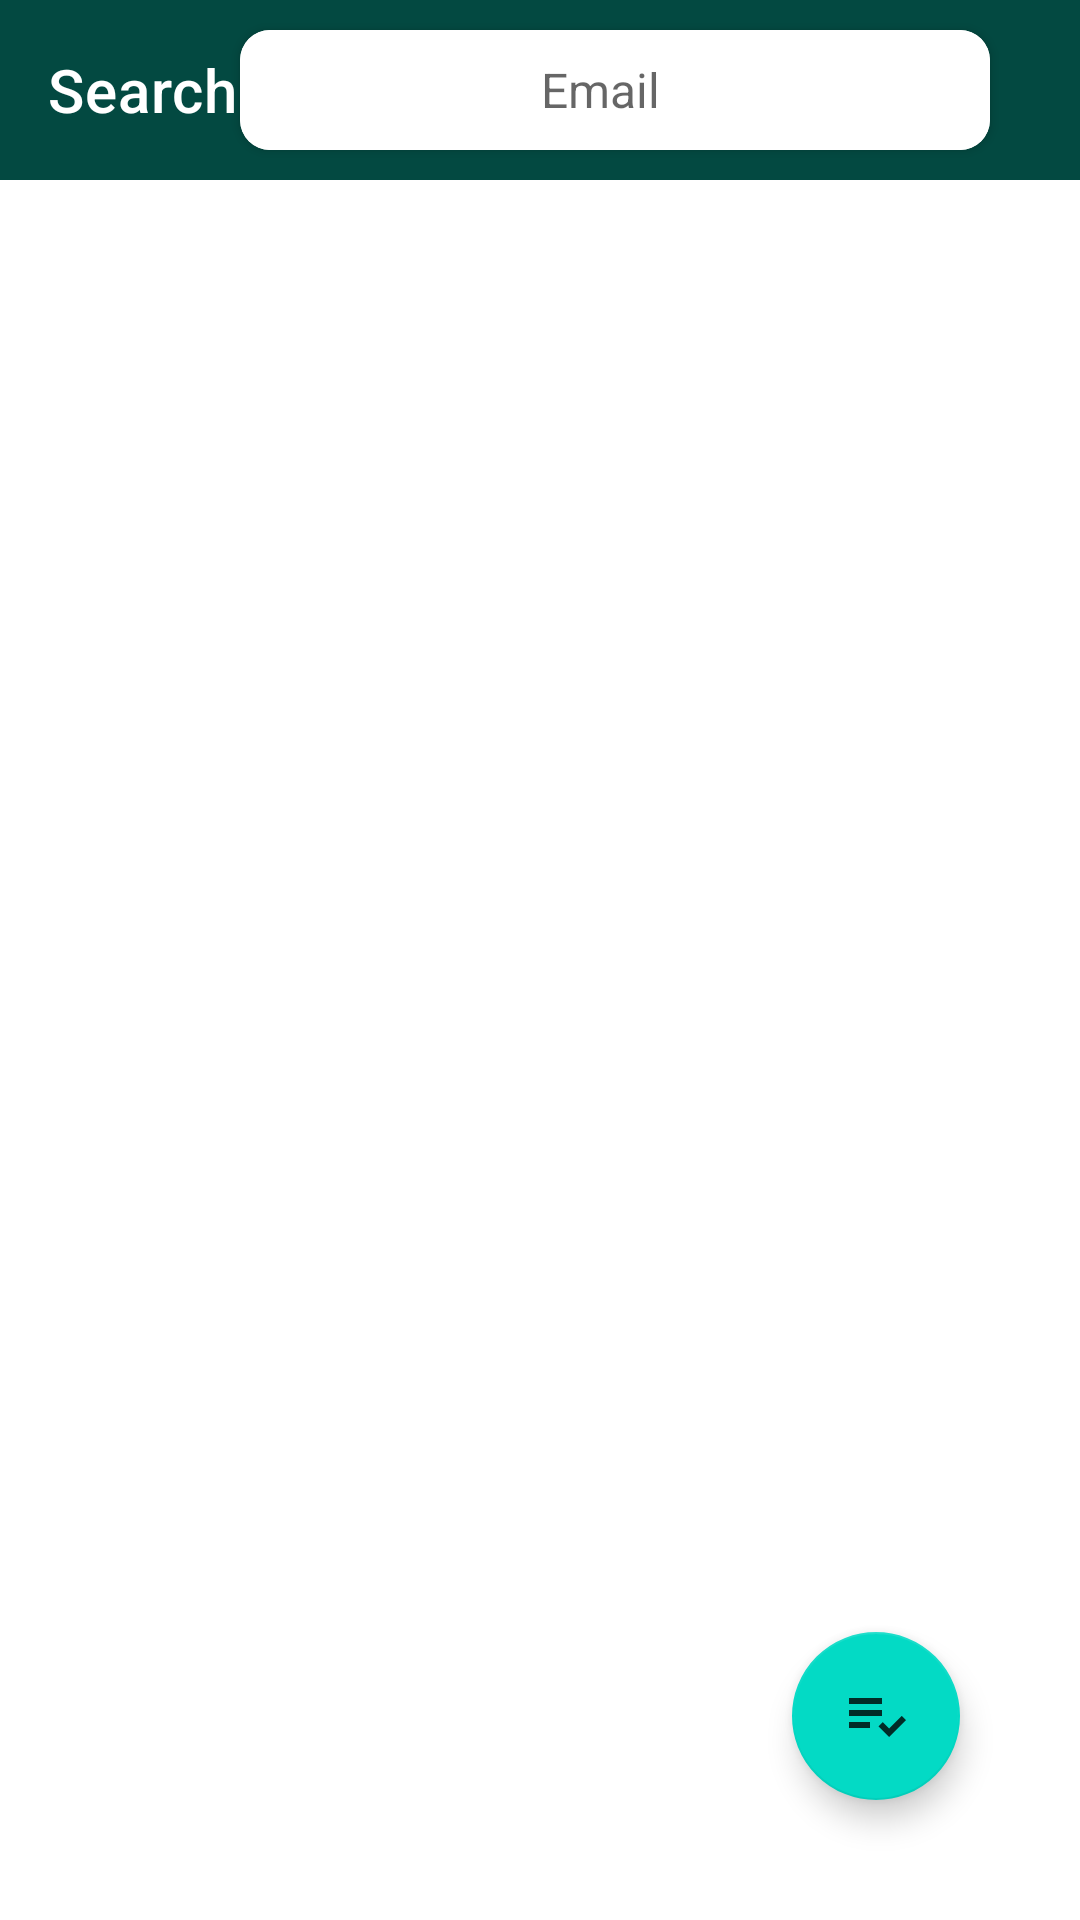

Screen size 1080 × 1920. Icon name, then its center in pixels as (x,y):
accept: (876,1716)
